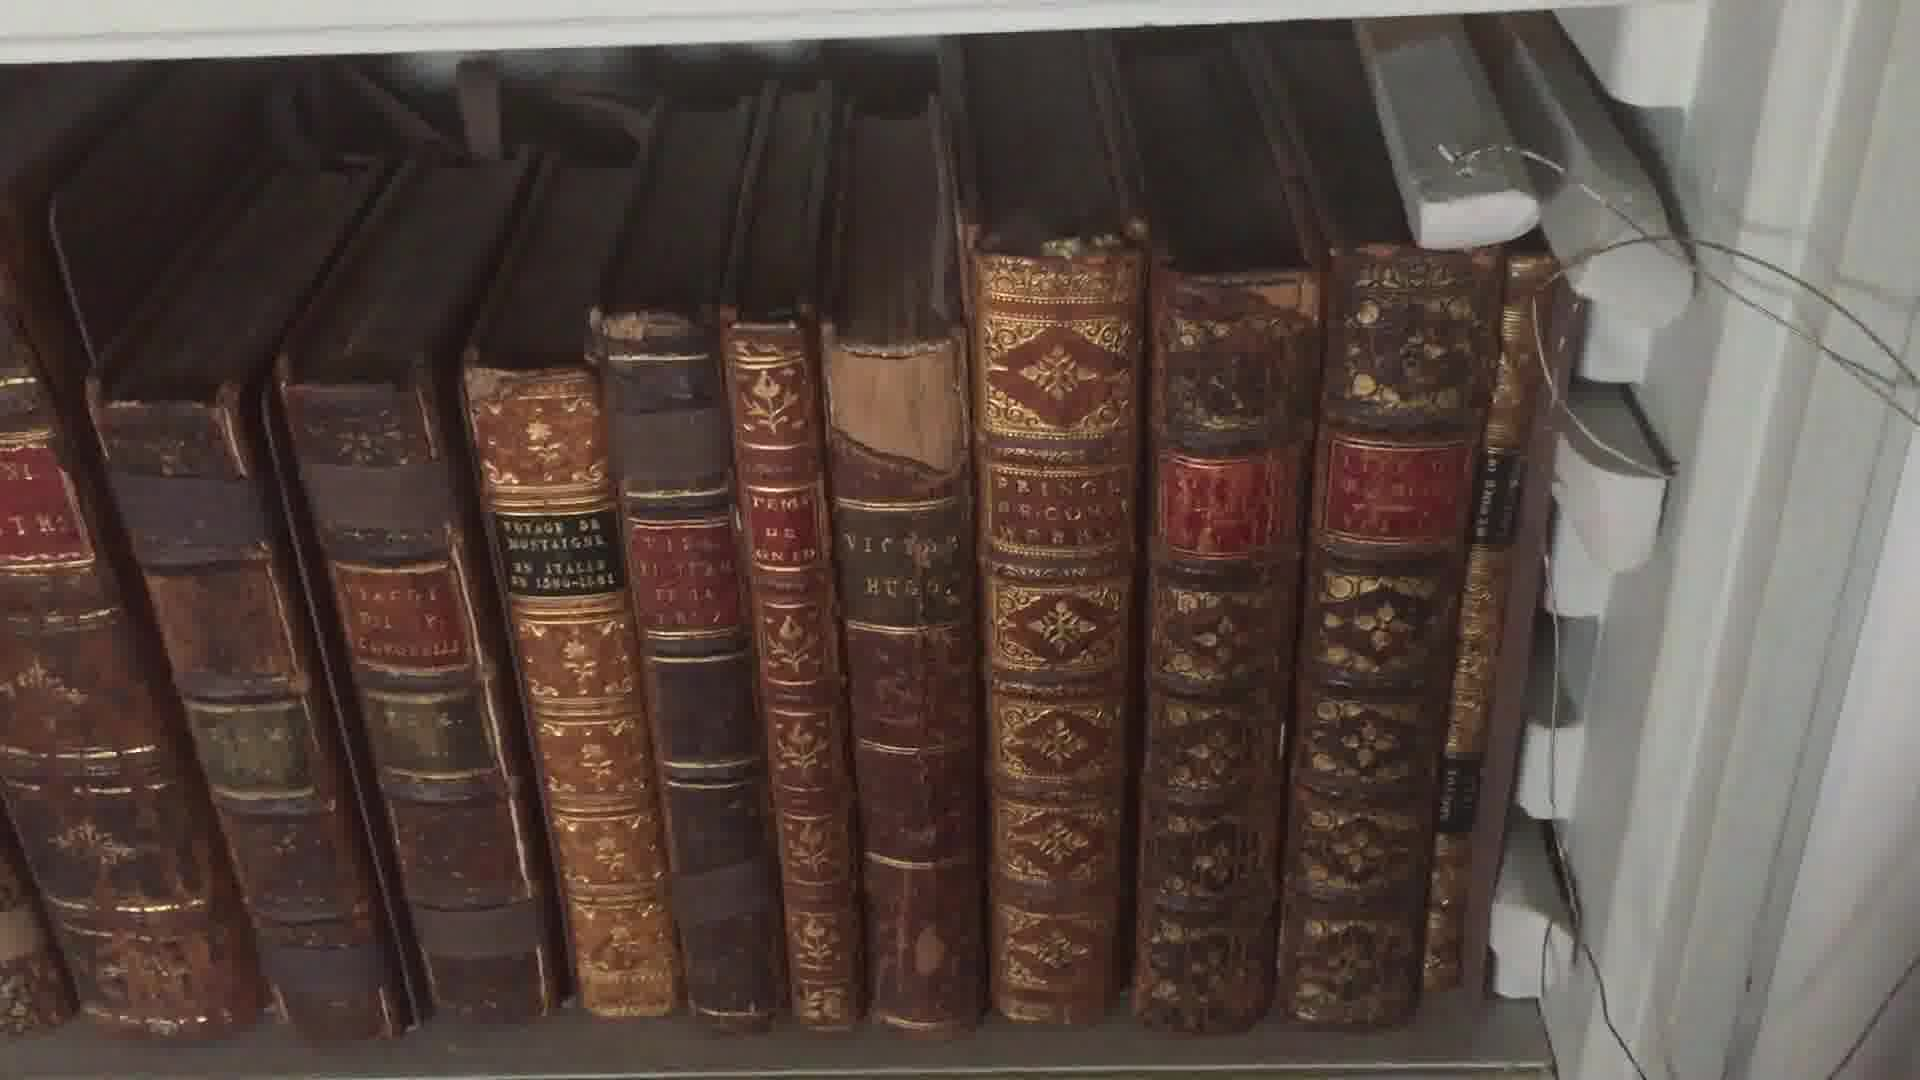Aa6-39_40: (73, 367, 568, 1022)
Aa6-41: (433, 344, 704, 1031)
Aa6-42: (541, 305, 825, 1046)
Aa6-43: (721, 322, 876, 1022)
Aa6-44: (799, 322, 982, 1044)
Aa6-45: (960, 233, 1133, 1036)
Aa6-46-47: (1133, 270, 1487, 1005)
Aa6-48: (1437, 253, 1507, 1051)
